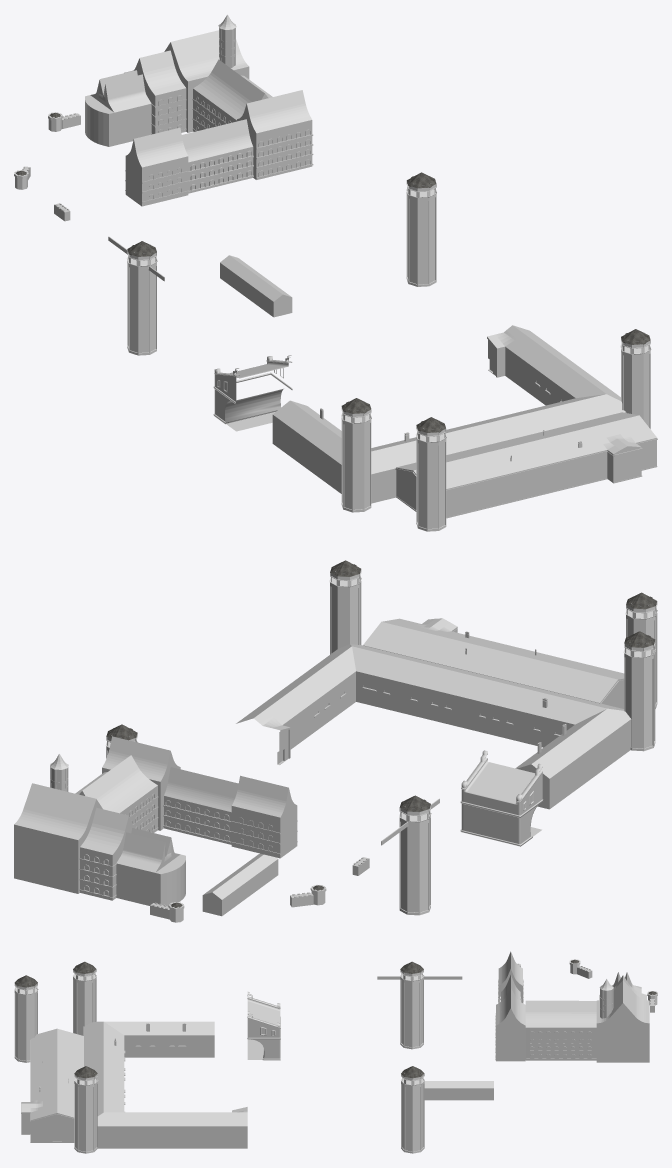
File: BasgiathNoMaterial.glb
The picture shows the model from 3 angles, top to bottom: view 1: azimuth 30°, elevation 25°; view 2: azimuth 150°, elevation 25°; view 3: azimuth 270°, elevation 25°; orthographic projection. The views are drawn at different scales.
Visible parts, largest first — view 1: Cube.030, MainFortress, InfantryQuadrant, Tower.002, Tower.001, Tower.004, MainEntrance, Tower, Tower.003, Cube, Cylinder.006; view 2: Cube.030, MainFortress, InfantryQuadrant, MainEntrance, Tower, Tower.002, Tower.003, Cube, Tower.004, Cylinder.006; view 3: MainFortress, Cube.030, InfantryQuadrant, MainEntrance, Tower.001, Tower, Tower.003, Tower.004, Tower.002, Cube, Cylinder.006.
Part boxes in pixels (x1,y1,x2,y2): Cube.030: (85,30,312,206); MainFortress: (272,325,626,503); InfantryQuadrant: (395,412,657,518); Tower.002: (341,398,371,512); Tower.001: (406,172,436,286); Tower.004: (416,417,446,531); MainEntrance: (213,355,292,431); Tower: (126,241,157,355); Tower.003: (620,329,651,428); Cube: (220,255,292,317); Cylinder.006: (218,14,236,67); Cube.030: (14,736,297,906); MainFortress: (236,644,631,809); InfantryQuadrant: (363,618,624,708); MainEntrance: (460,750,543,846); Tower: (399,795,431,915); Tower.002: (623,631,655,751); Tower.003: (329,560,361,654); Cube: (202,853,278,916); Tower.004: (625,592,657,708); Cylinder.006: (50,754,68,791); MainFortress: (83,1021,247,1148); Cube.030: (495,951,649,1062); InfantryQuadrant: (21,1028,83,1142); MainEntrance: (247,992,280,1060); Tower.001: (400,1066,424,1153); Tower: (400,961,423,1049); Tower.003: (74,1066,98,1153); Tower.004: (14,975,38,1062); Tower.002: (73,961,96,1035); Cube: (424,1081,493,1100); Cylinder.006: (599,979,613,1018).
Bounding box in the file's own units: 169 × 97.39 × 392.
Materials: 2 (1 with a texture image).
